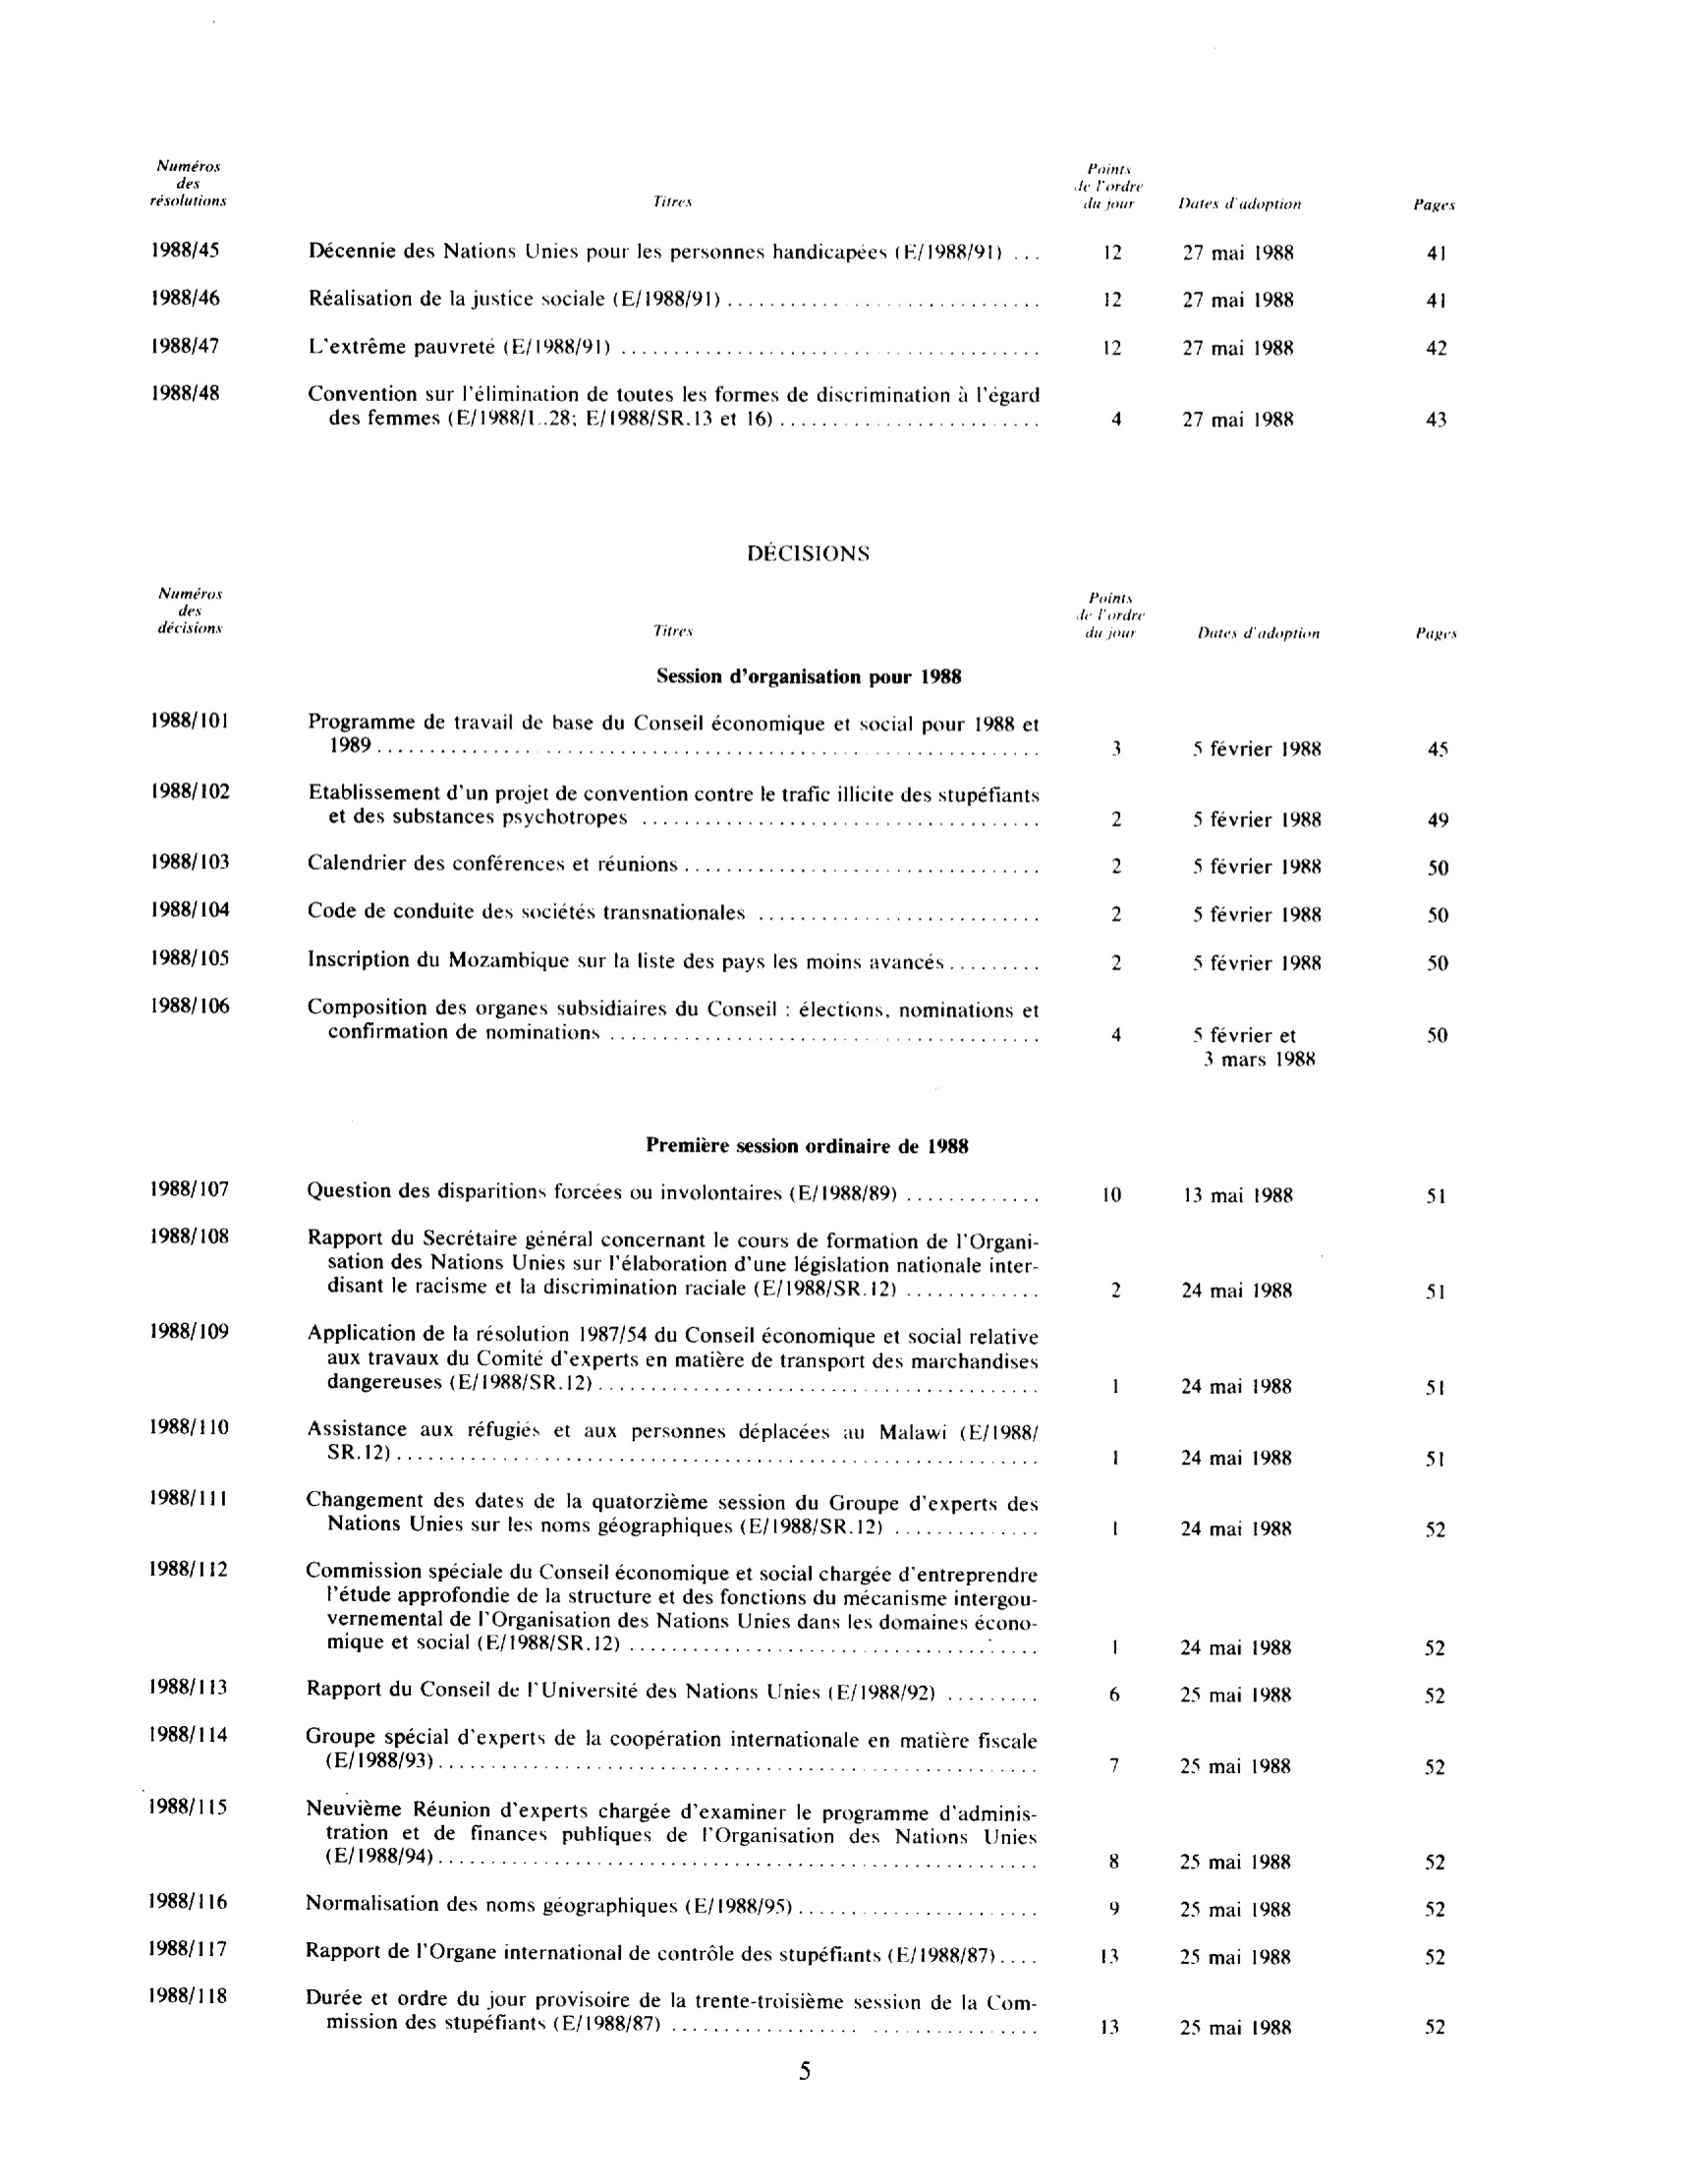QuireMarksZone: (110, 131, 1465, 2058)
TitlePageZone: (792, 2062, 817, 2085)
